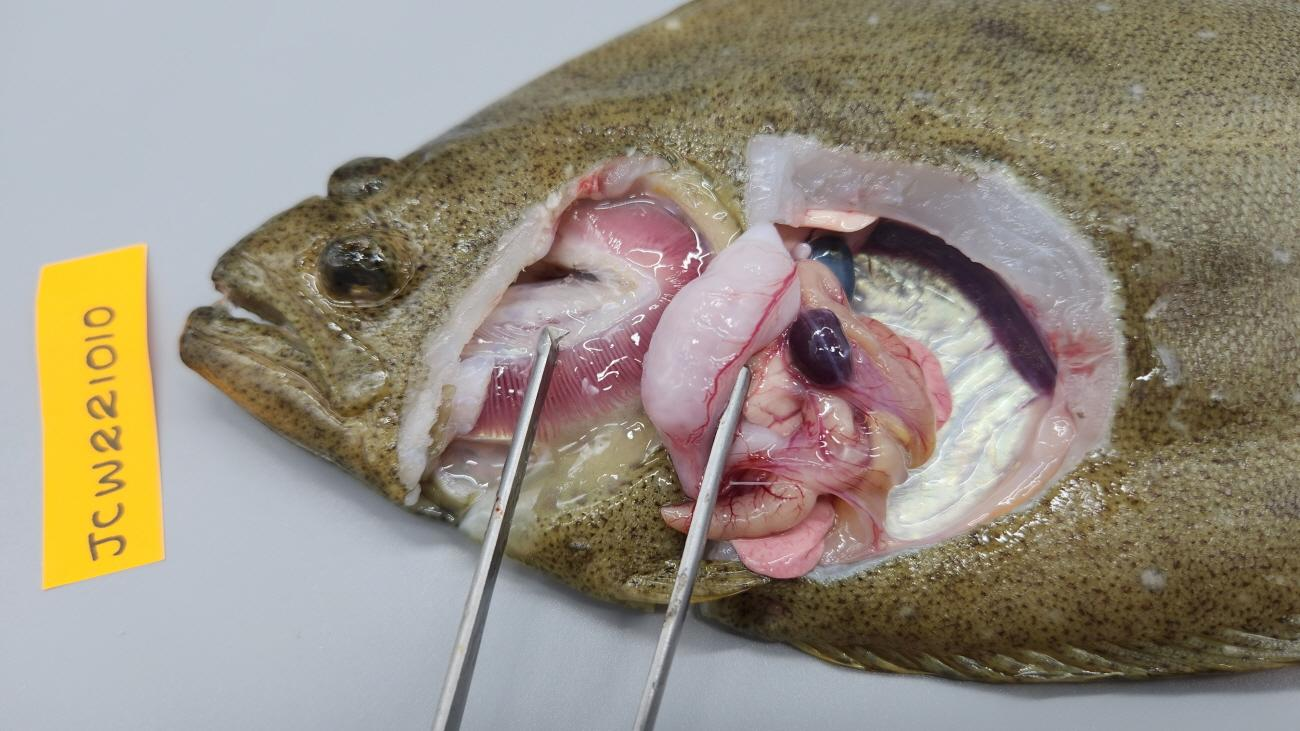POINN: (743, 259, 936, 565)
POSPN: (789, 308, 853, 385)
